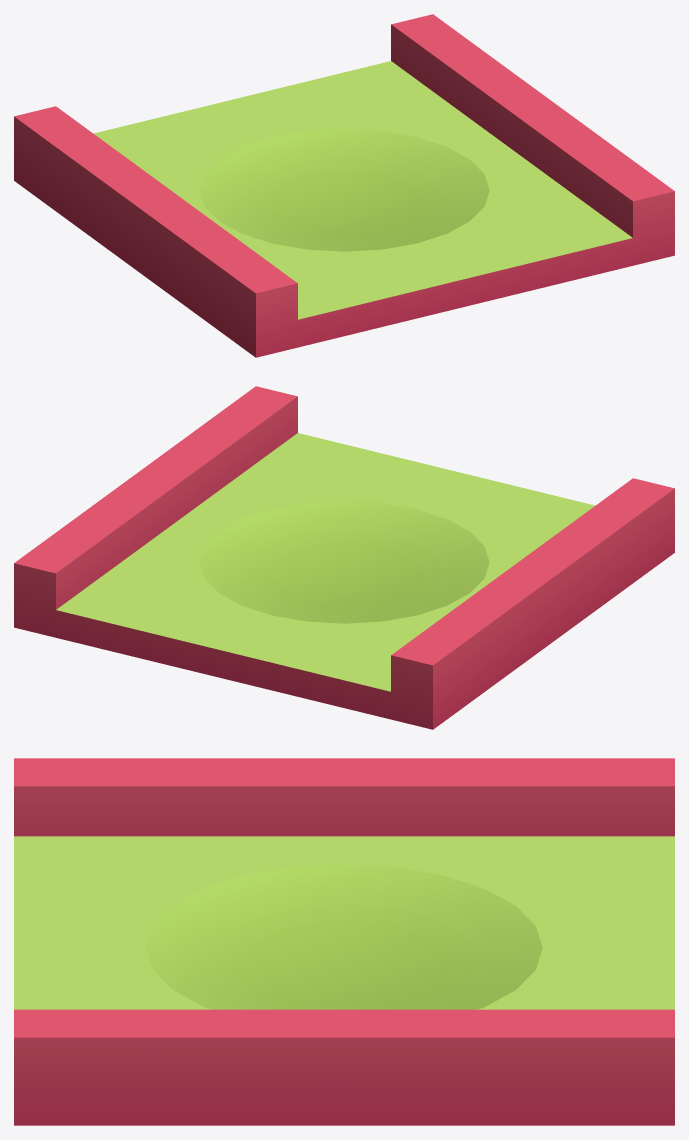
Rendered from bump-down-walls.gltf.
The picture shows the model from 3 angles, top to bottom: view 1: azimuth 30°, elevation 25°; view 2: azimuth 150°, elevation 25°; view 3: azimuth 270°, elevation 25°; orthographic projection. The views are drawn at different scales.
Visible parts, largest first — view 1: bump-down-walls; view 2: bump-down-walls; view 3: bump-down-walls.
Part boxes in pixels (x1,y1,x2,y2): bump-down-walls: (14,14,674,357); bump-down-walls: (14,386,674,729); bump-down-walls: (14,758,674,1125).
Size of the model in its own units: 0.9999 by 0.1467 by 0.9999.
Materials: 1 (1 with a texture image).
